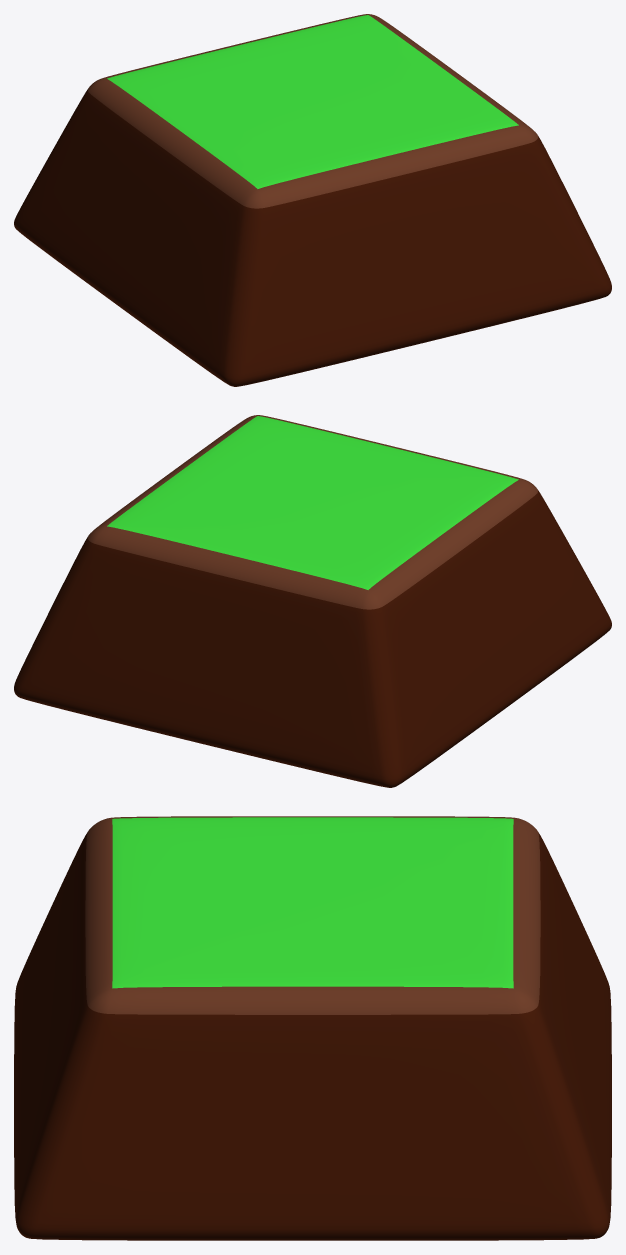
Rendered from GroundLevel_3.fbx.
3 renders of one model, top to bottom at view 1: azimuth 30°, elevation 25°; view 2: azimuth 150°, elevation 25°; view 3: azimuth 270°, elevation 25°, orthographic. The views are drawn at different scales.
Visible parts, largest first — view 1: Cube.001; view 2: Cube.001; view 3: Cube.001.
Part boxes in pixels (bbox=[...]): Cube.001: bbox=[14, 14, 611, 386]; Cube.001: bbox=[14, 415, 611, 787]; Cube.001: bbox=[14, 816, 611, 1240].
Bounding box in the file's own units: 471 × 192 × 471.
